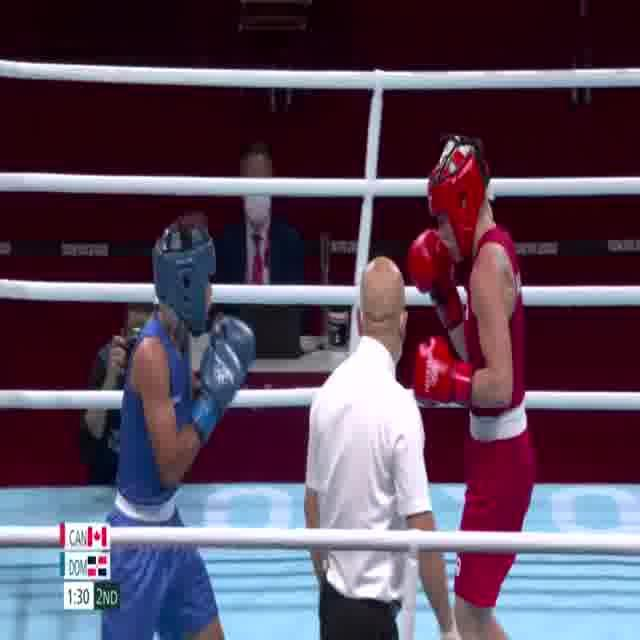blue-player: (98, 216, 262, 640)
red-player: (404, 133, 541, 640)
referee: (299, 254, 465, 640)
